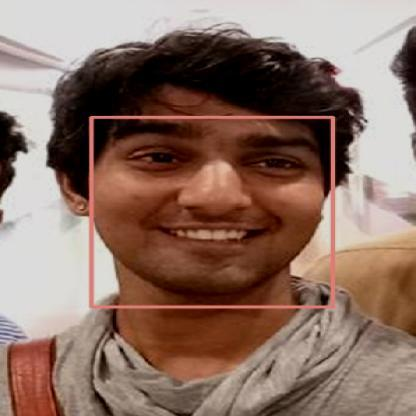without_mask: (91, 117, 332, 306)
